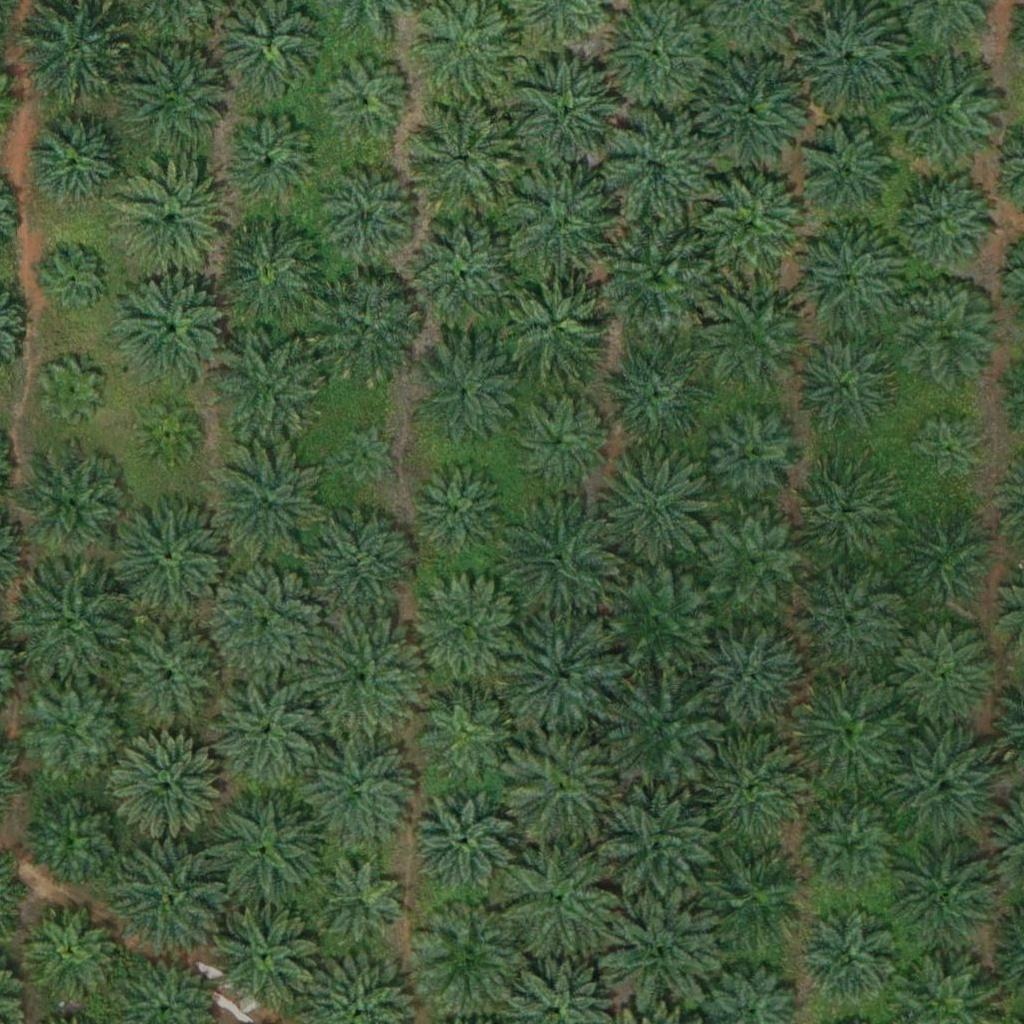Kelapa_Sawit: (598, 560, 711, 674), (504, 496, 617, 610), (410, 340, 523, 454), (605, 670, 718, 784), (890, 836, 1003, 950), (22, 103, 135, 216), (114, 165, 227, 278), (403, 102, 516, 215), (695, 50, 808, 163), (796, 225, 909, 338), (697, 171, 810, 284), (508, 170, 621, 283), (499, 269, 612, 382), (504, 618, 617, 731), (408, 221, 521, 334), (207, 442, 320, 555), (211, 565, 324, 678), (116, 276, 229, 389), (113, 502, 226, 615), (113, 732, 226, 845), (206, 677, 319, 790), (209, 791, 322, 904), (210, 896, 323, 1009), (505, 731, 618, 844), (600, 790, 713, 903), (602, 896, 715, 1009), (794, 669, 907, 782), (891, 729, 1004, 842), (119, 38, 231, 152), (216, 106, 328, 220), (693, 621, 805, 735), (310, 275, 422, 389), (213, 218, 325, 332), (701, 729, 813, 843), (511, 57, 623, 170), (600, 112, 712, 225), (889, 58, 1001, 171), (792, 566, 904, 679), (699, 282, 811, 395), (602, 222, 714, 335), (598, 334, 710, 447), (600, 446, 712, 559), (411, 573, 523, 686), (305, 507, 417, 620), (307, 620, 419, 733), (216, 331, 328, 444), (113, 621, 225, 734), (17, 448, 129, 561), (16, 570, 128, 683), (111, 845, 223, 958), (301, 738, 413, 851), (413, 901, 525, 1014), (507, 843, 619, 956), (698, 844, 810, 957), (797, 122, 897, 223), (894, 170, 994, 271), (895, 282, 995, 383), (897, 508, 997, 609), (895, 624, 995, 725), (795, 331, 895, 432), (792, 464, 892, 565), (705, 408, 805, 509), (705, 511, 805, 612), (27, 678, 127, 779), (28, 788, 128, 889), (312, 856, 412, 957), (416, 678, 516, 779), (412, 789, 512, 890), (319, 167, 419, 267), (509, 390, 609, 490), (407, 459, 507, 559), (26, 903, 126, 1003), (799, 909, 899, 1009), (805, 806, 893, 894), (325, 57, 412, 145), (908, 414, 983, 489), (137, 403, 200, 466), (45, 249, 108, 312), (40, 360, 103, 423), (334, 423, 396, 486)
